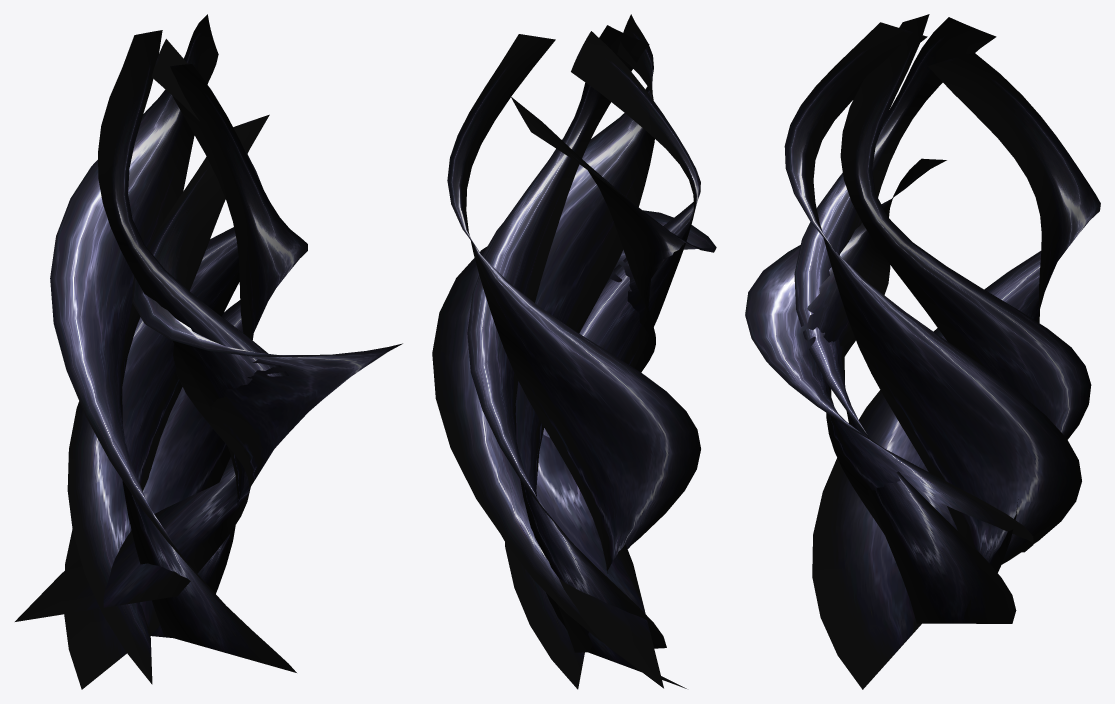
The model's file is ul_swirl_orb_cloud.obj.
3 renders of one model, left to right at view 1: azimuth 30°, elevation 25°; view 2: azimuth 150°, elevation 25°; view 3: azimuth 270°, elevation 25°, orthographic. The views are drawn at different scales.
Parts seen in each view (by area): view 1: Geoset1, Geoset2, Geoset0; view 2: Geoset1, Geoset2, Geoset0; view 3: Geoset1, Geoset2, Geoset0.
Part boxes in pixels (x1,y1,x2,y2): Geoset1: (50,14,307,689); Geoset2: (67,30,288,684); Geoset0: (15,114,402,621); Geoset1: (447,14,700,688); Geoset2: (467,25,700,689); Geoset0: (432,97,716,688); Geoset1: (784,22,1100,689); Geoset2: (794,14,1091,623); Geoset0: (745,158,1033,552).
Size of the model in its own units: 51.48 by 106 by 54.52.
Materials: 1 (1 with a texture image).
